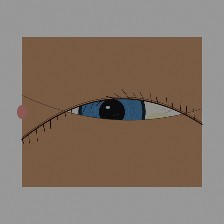pinguecula_lesion: (134, 98, 184, 138)
